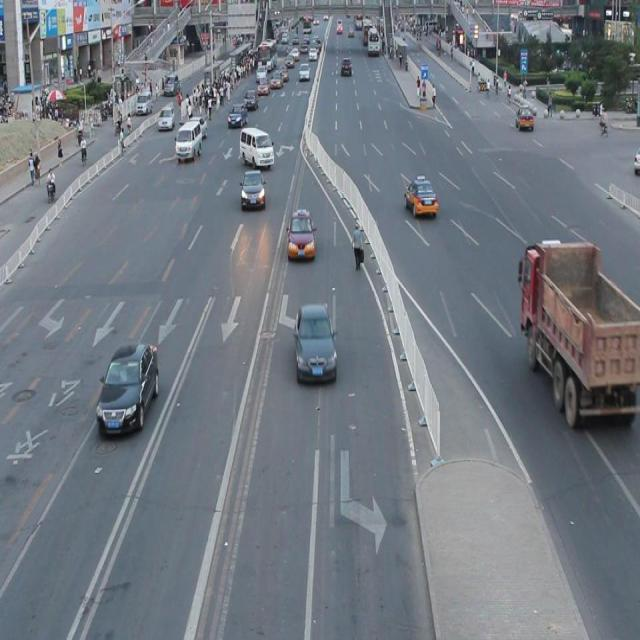bus: (519, 239, 640, 426)
car: (94, 339, 160, 436), (294, 302, 338, 382), (286, 209, 315, 262), (403, 176, 437, 220), (240, 167, 265, 210)
truck: (238, 124, 274, 170)
